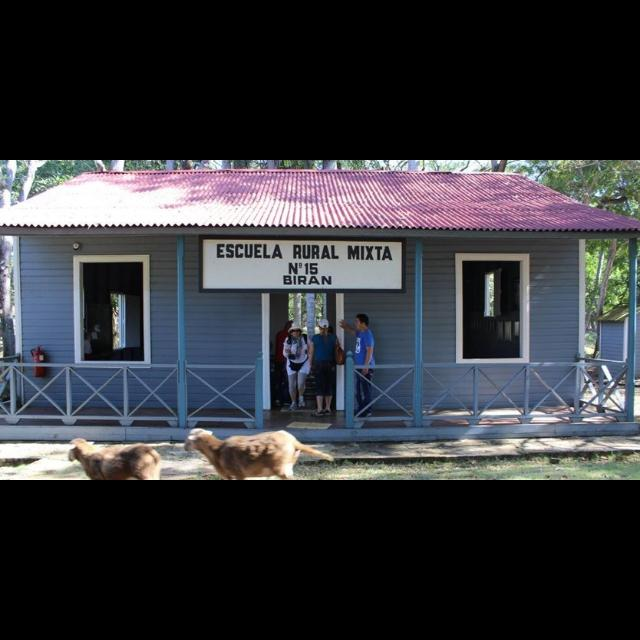head: (356, 314, 370, 332), (292, 326, 302, 338), (319, 320, 329, 332), (284, 322, 292, 332)
person: (338, 313, 378, 421), (306, 318, 348, 418), (282, 318, 314, 414), (272, 320, 296, 408)
